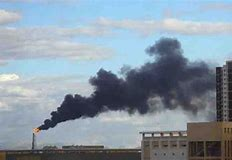smoke: (38, 35, 188, 130)
